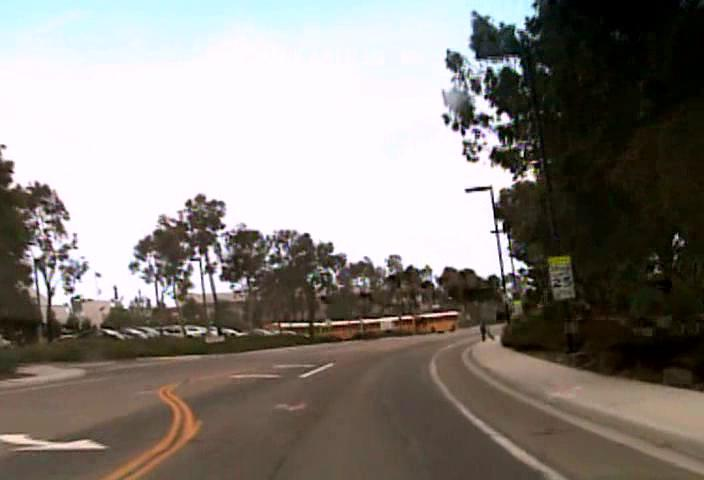schoolSpeedLimit25: (547, 255, 576, 300)
